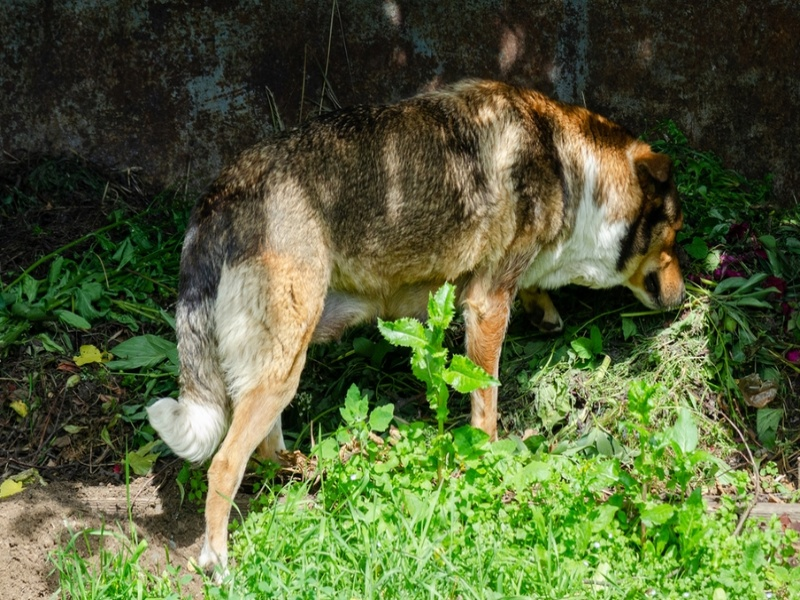dog: (160, 91, 681, 564)
